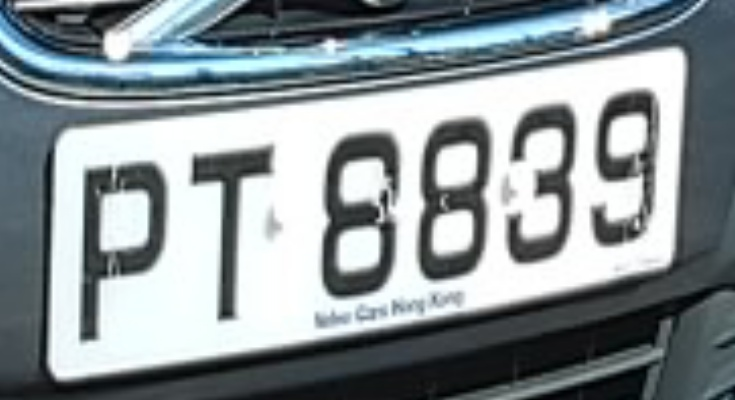3: (501, 86, 587, 284)
8: (307, 113, 407, 318), (409, 103, 499, 302)
9: (579, 74, 668, 271)
P: (68, 134, 183, 359)
T: (173, 129, 283, 339)
